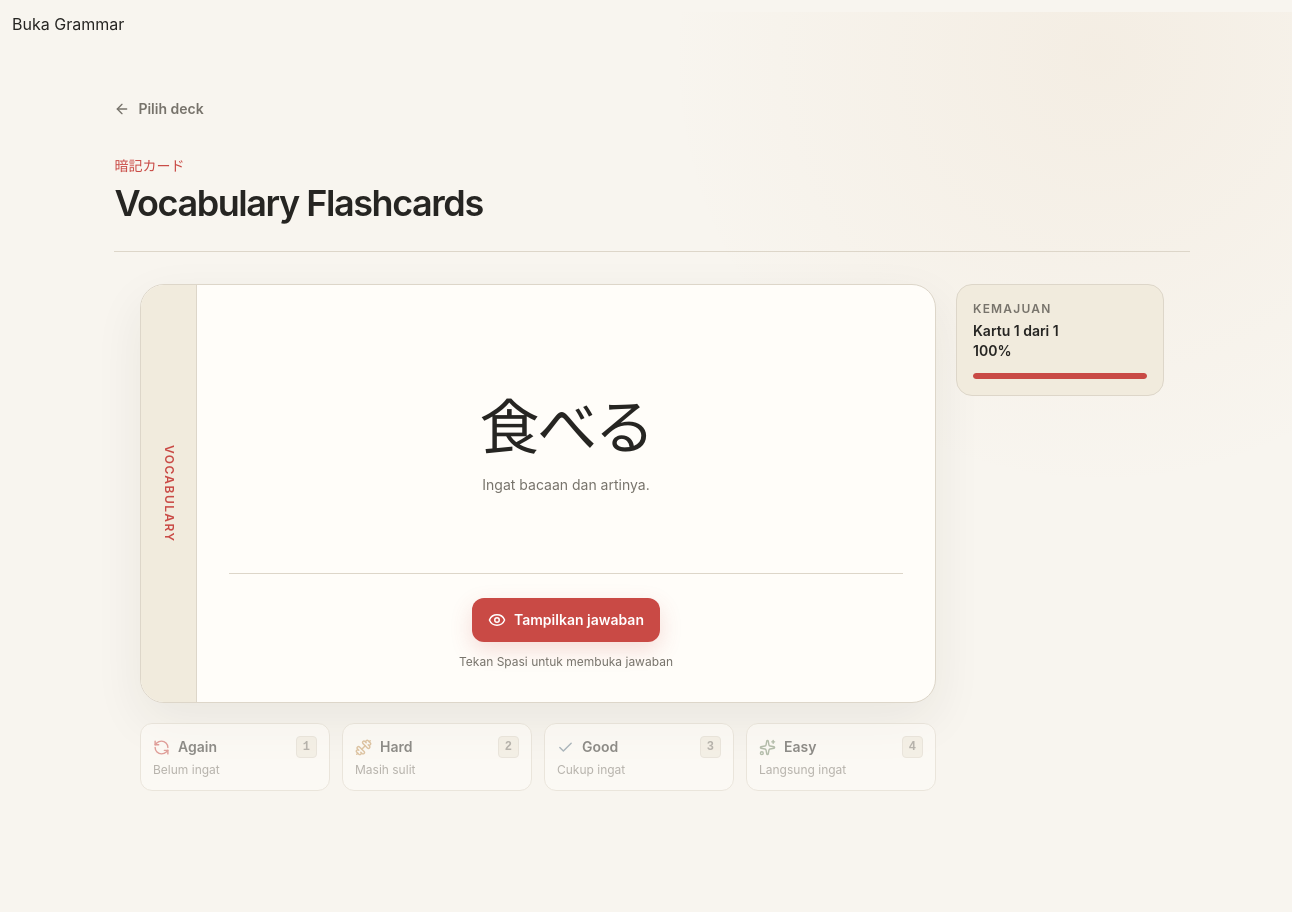
it: FlashcardSessionPage › regenerates for a changed module parameter
The image size is (1292, 912).
Expected: the heading "食べる" is shown, [480,393,652,453]
Click the link "Buka Grammar" at {"x": 68, "y": 24}, box [12,14,124,34]
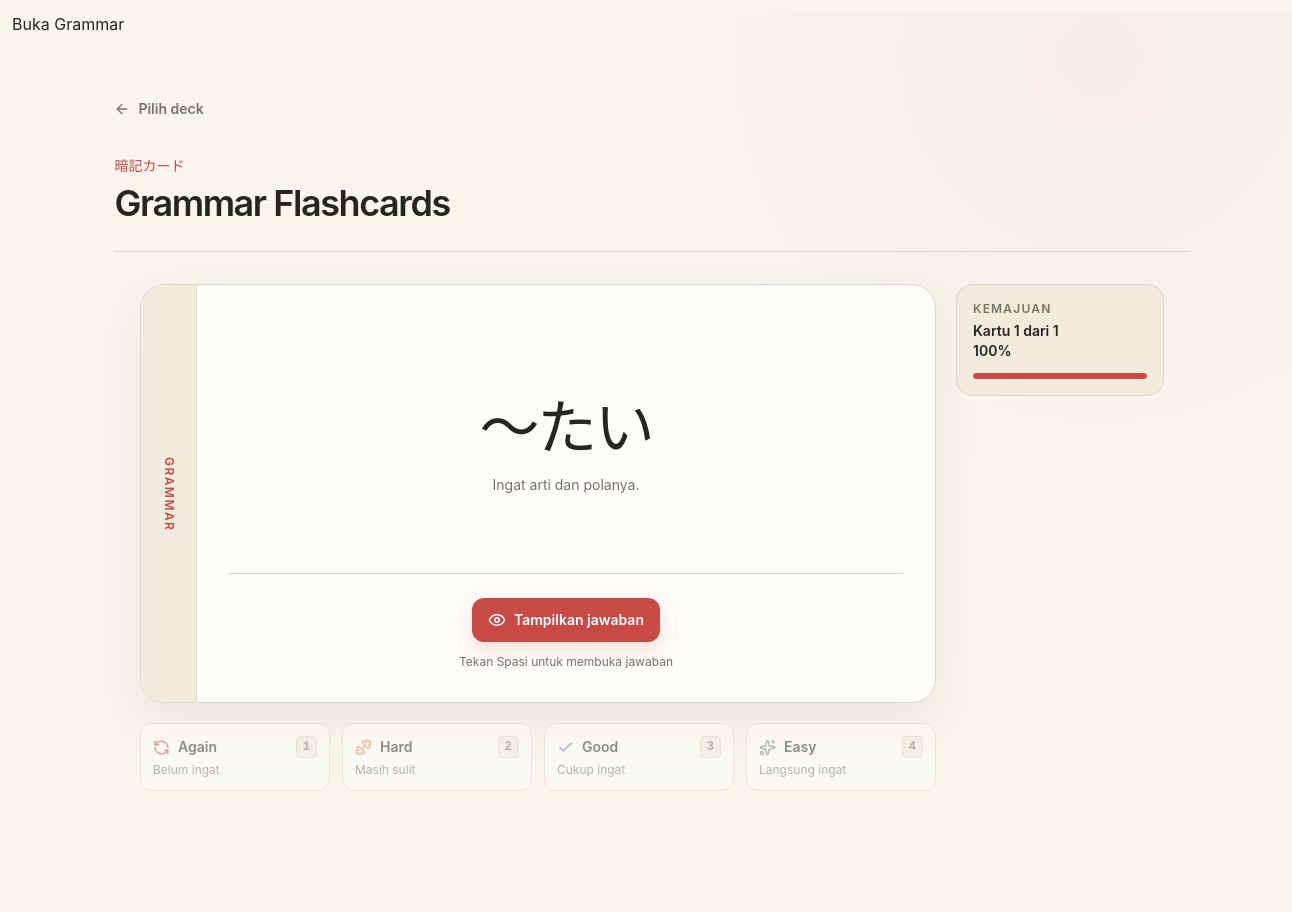
Result: the heading "Grammar Flashcards" is shown at [114,181,450,225]
Result: the heading "～たい" is shown at [480,393,652,453]
